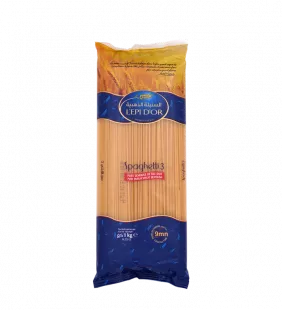L'EPI D'OR: (83, 27, 197, 295)
